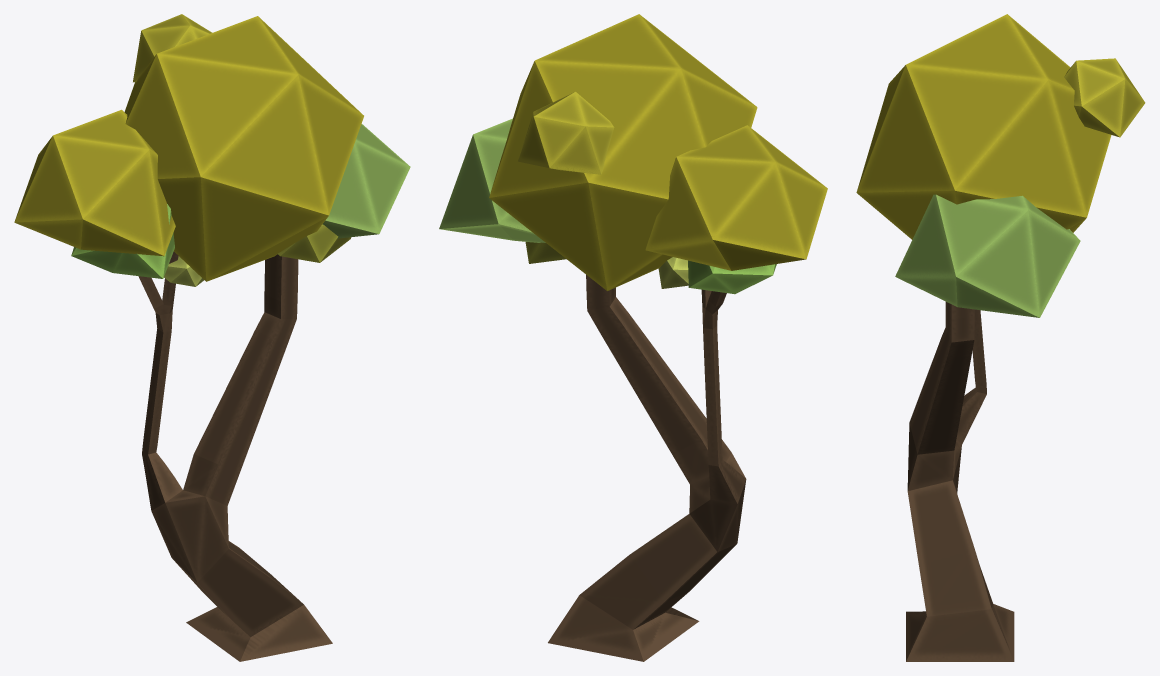
File: Tree4.e8fb0c12.glb
3 views of the same model, side by side, from view 1: azimuth 30°, elevation 25°; view 2: azimuth 150°, elevation 25°; view 3: azimuth 270°, elevation 25° (orthographic). The views are drawn at different scales.
Parts seen in each view (by area): view 1: Cube.003; view 2: Cube.003; view 3: Cube.003.
Boxes of the visible parts, <box> form: Cube.003: <box>14,14,410,661</box>; Cube.003: <box>439,14,827,661</box>; Cube.003: <box>856,14,1145,661</box>.
Bounding box in the file's own units: 11.32 × 17.52 × 7.83.
Materials: 1 (1 with a texture image).
